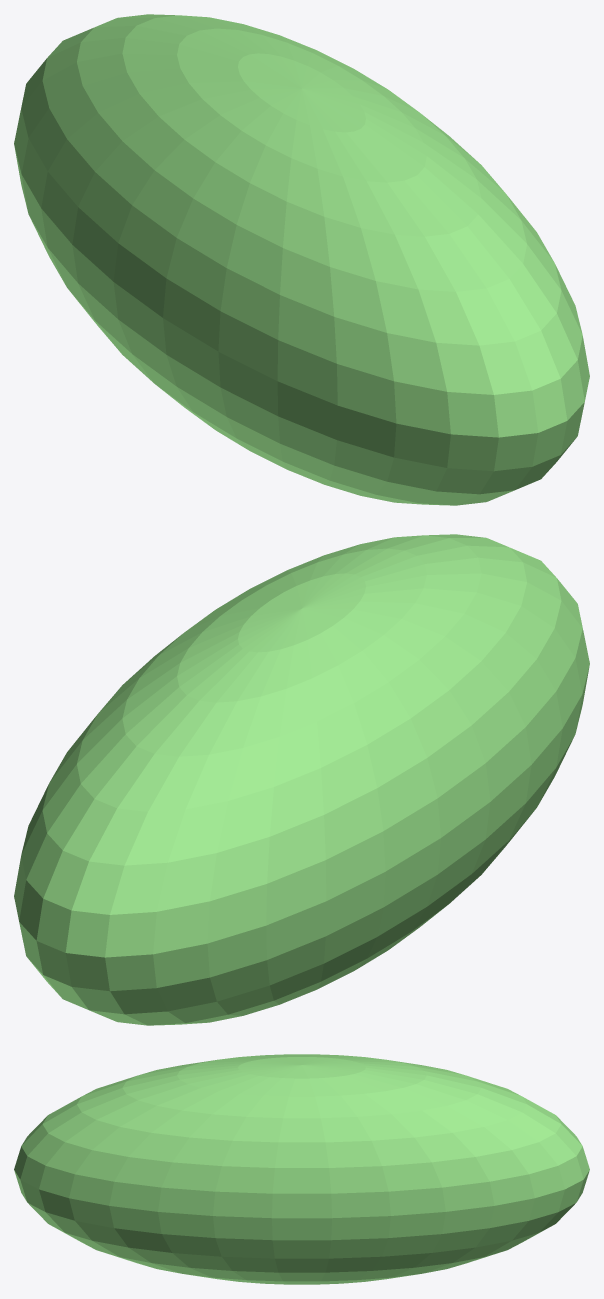
The model's file is beangeneric.fbx.
3 views of the same model, one above another, from view 1: azimuth 30°, elevation 25°; view 2: azimuth 150°, elevation 25°; view 3: azimuth 270°, elevation 25° (orthographic). The views are drawn at different scales.
Visible parts, largest first — view 1: Sphere; view 2: Sphere; view 3: Sphere.
Part boxes in pixels (box(x1,y1,x2,y2)): Sphere: box(14, 14, 589, 505); Sphere: box(14, 534, 589, 1025); Sphere: box(14, 1054, 589, 1284).
Bounding box in the file's own units: 200 × 200 × 500.
